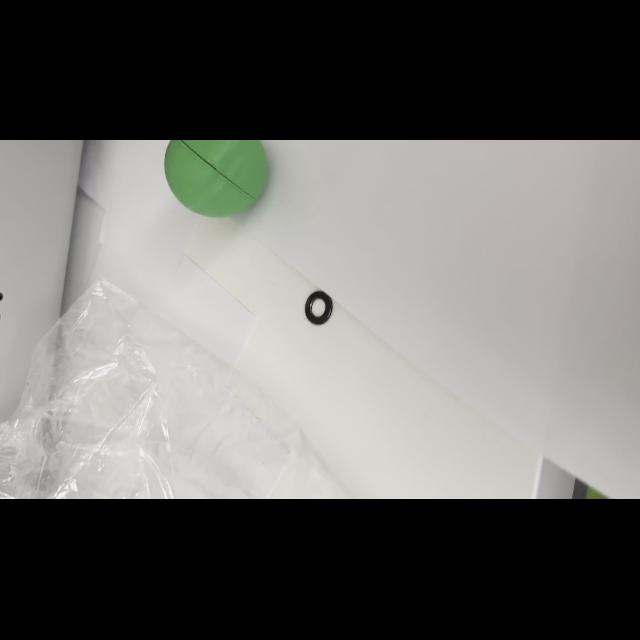objects: (160, 141, 276, 221)
